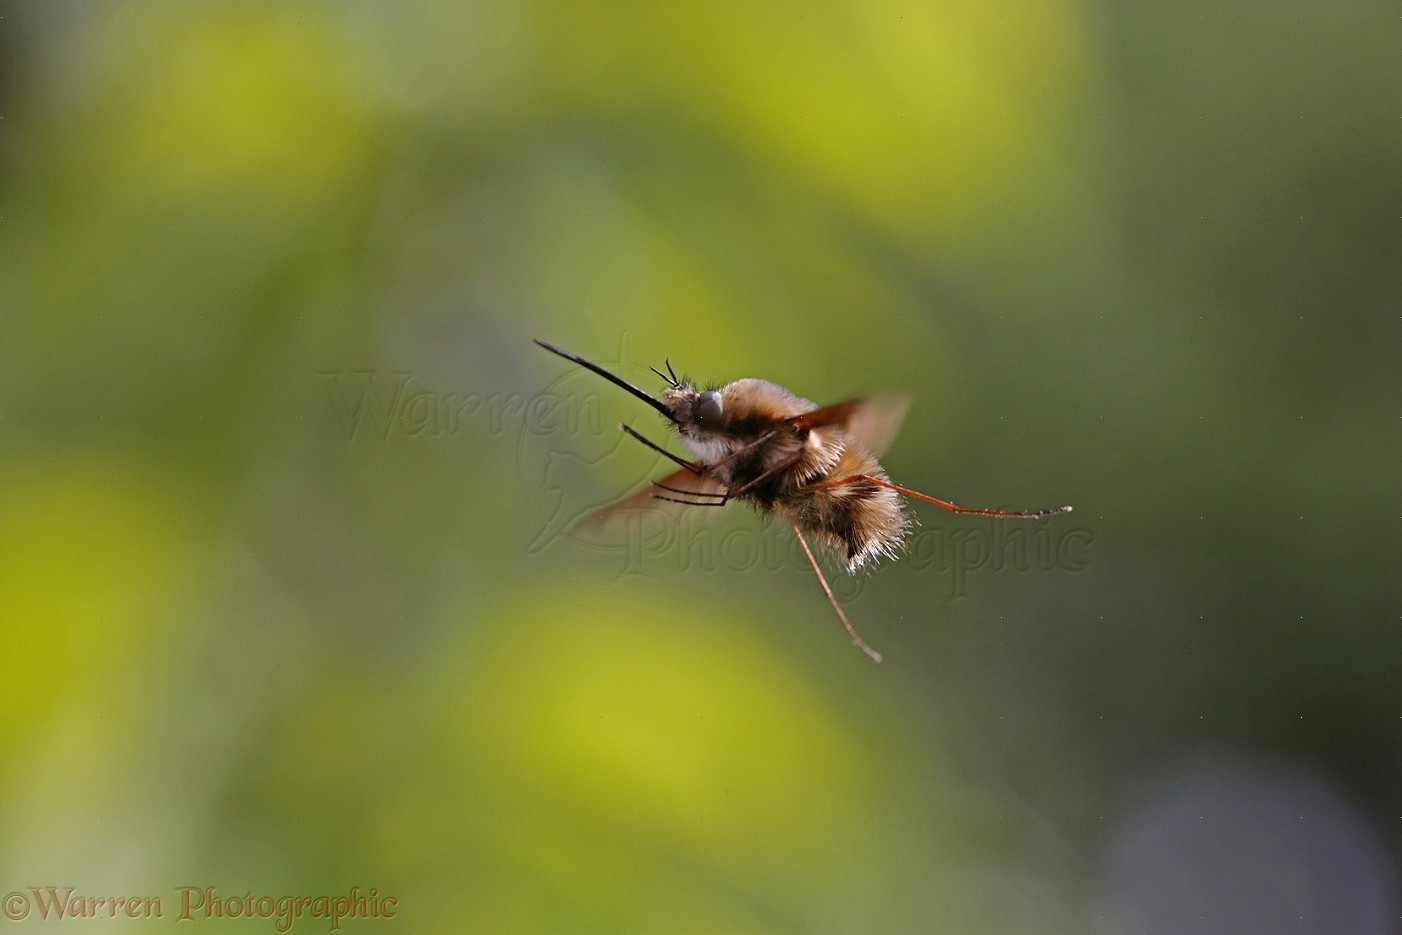insect: (532, 335, 1075, 665)
